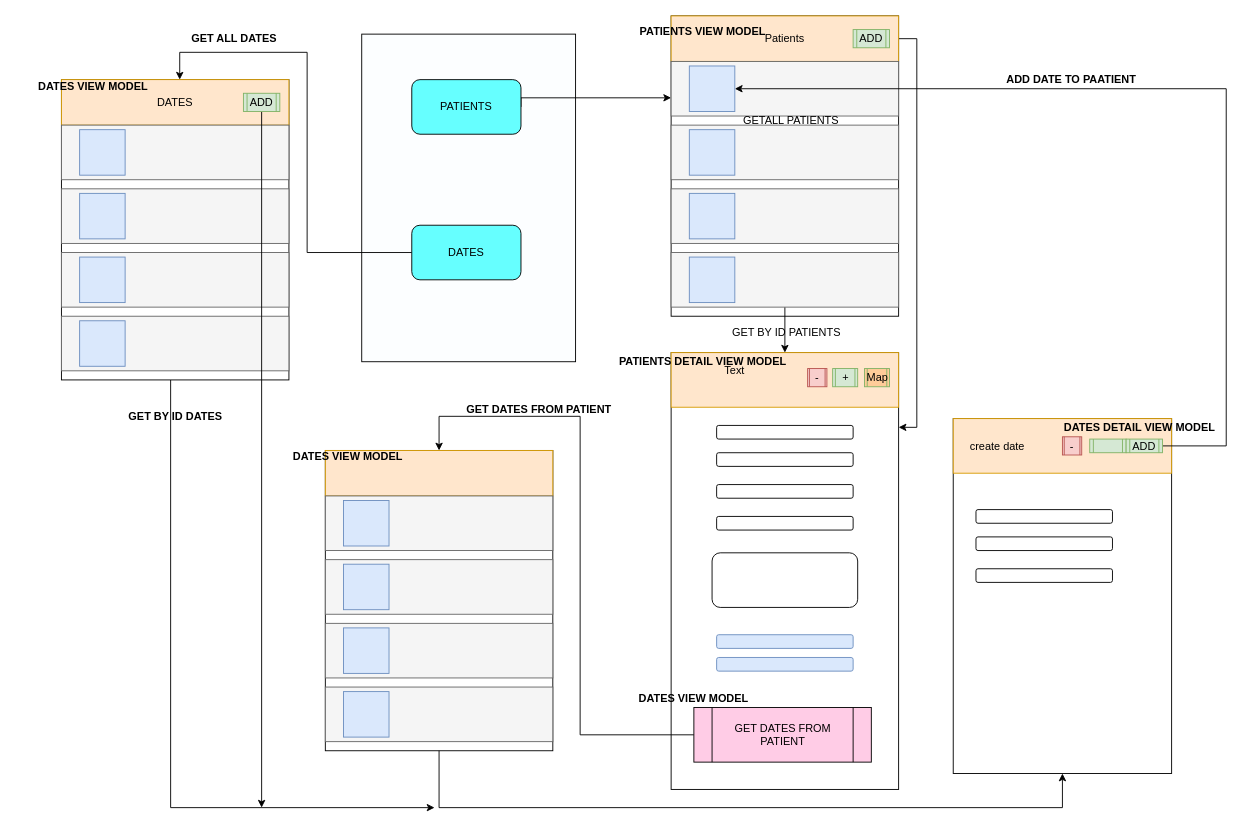
This 1249x831 diagram has some shape labels left out. The shapes that lost their labels are listed below. From the top down, each one's box as (x1, y1, x2, y2) in pixels, then its label:
(670, 352, 899, 407): Detail Patient
(1089, 438, 1126, 453): save
(324, 450, 553, 496): Dates from Patient
